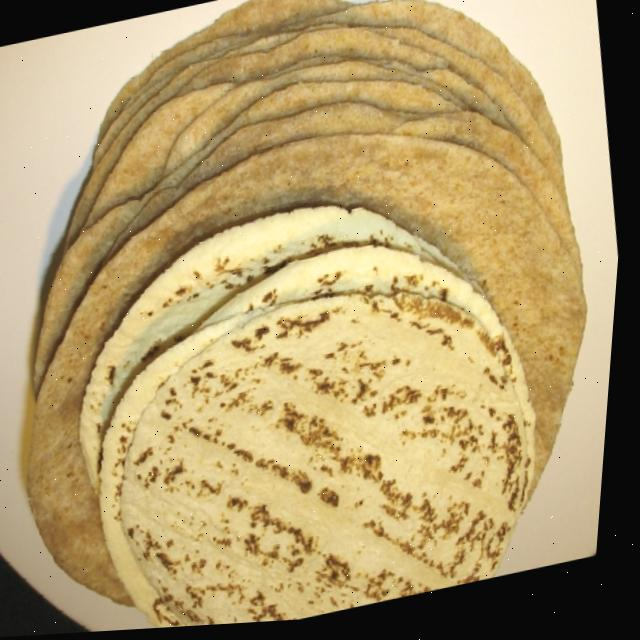面包点心: (0, 0, 605, 633)
